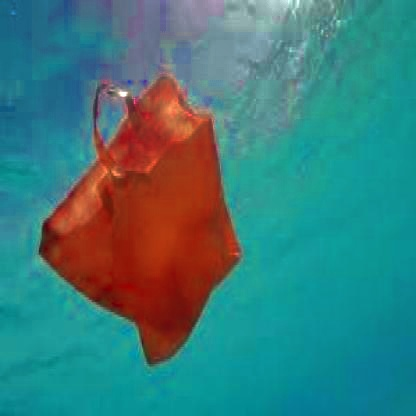pbag: (37, 77, 240, 369)
